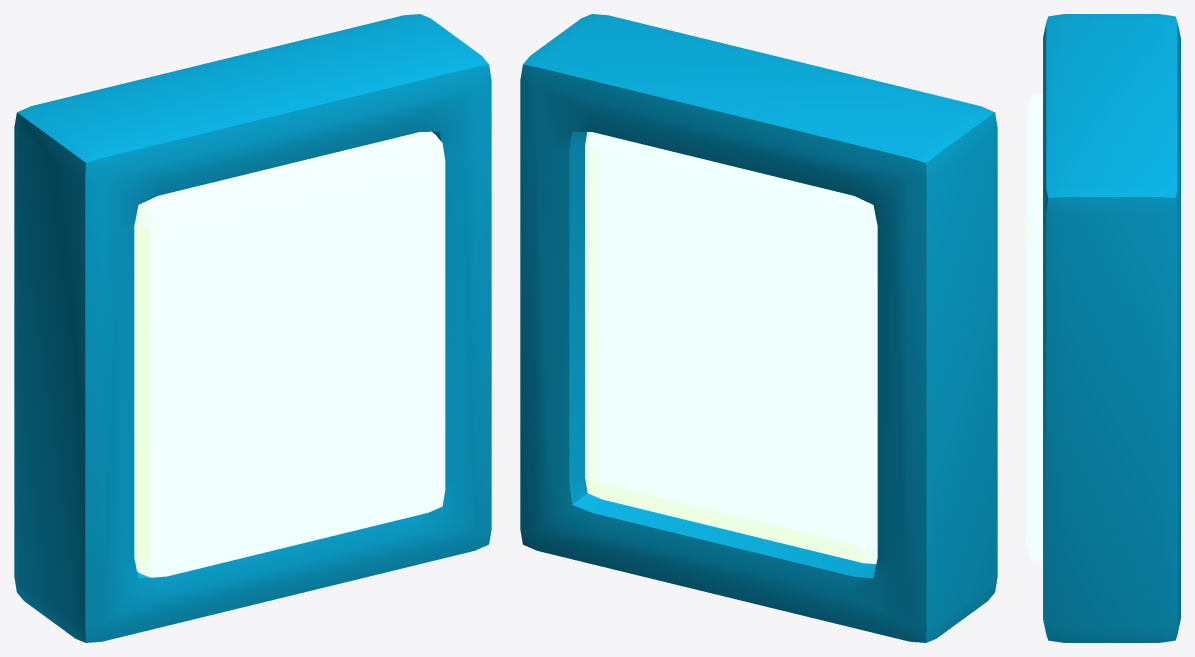
File: SM_Clay_Window_01.fbx
3 renders of one model, left to right at view 1: azimuth 30°, elevation 25°; view 2: azimuth 150°, elevation 25°; view 3: azimuth 270°, elevation 25°, orthographic. The views are drawn at different scales.
Parts seen in each view (by area): view 1: SM_Clay_Window_01; view 2: SM_Clay_Window_01; view 3: SM_Clay_Window_01.
Part boxes in pixels (box(x1,y1,x2,y2)): SM_Clay_Window_01: box(14, 14, 491, 642); SM_Clay_Window_01: box(520, 14, 997, 642); SM_Clay_Window_01: box(1026, 14, 1180, 642).
Size of the model in its own units: 0.2921 by 0.3314 by 0.1028.
